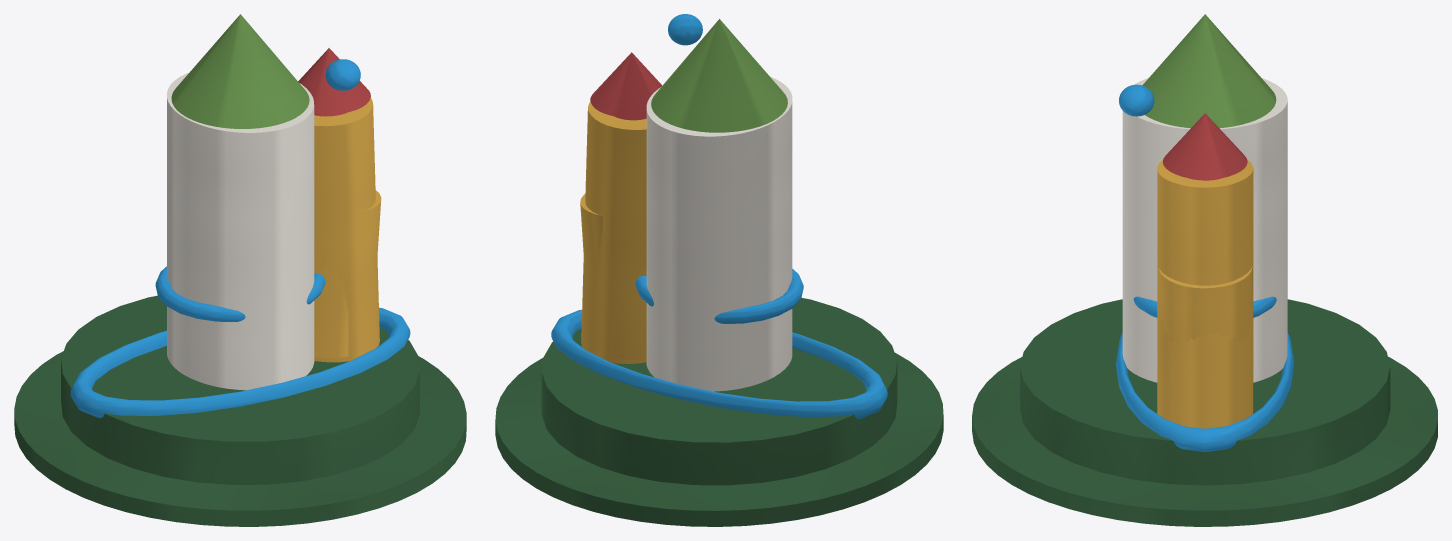
Rendered from 0536_岩石矿物图鉴_片麻岩.glb.
The picture shows the model from 3 angles, left to right: view 1: azimuth 30°, elevation 25°; view 2: azimuth 150°, elevation 25°; view 3: azimuth 270°, elevation 25°; orthographic projection.
Visible parts, largest first — view 1: card_0536; view 2: card_0536; view 3: card_0536.
Boxes of the visible parts, x1,y1,x2,y2 form: card_0536: (14,14,466,526); card_0536: (495,14,943,526); card_0536: (972,14,1437,526).
Size of the model in its own units: 0.9773 by 1 by 1.01.
